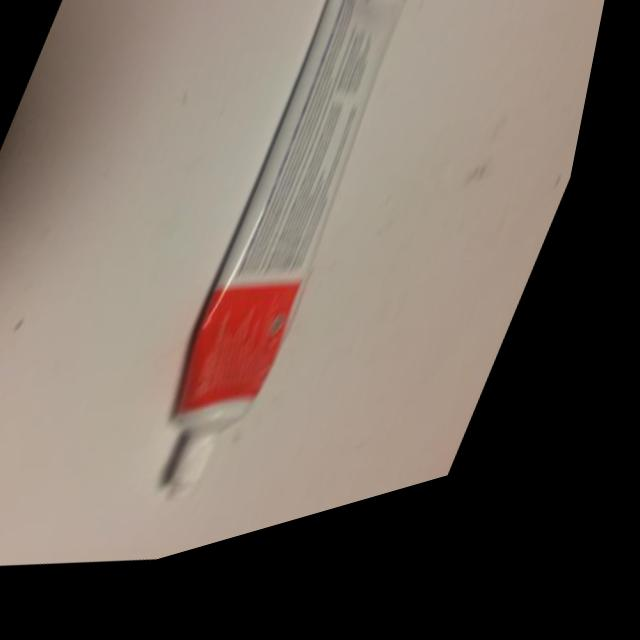trash: (72, 0, 476, 601)
